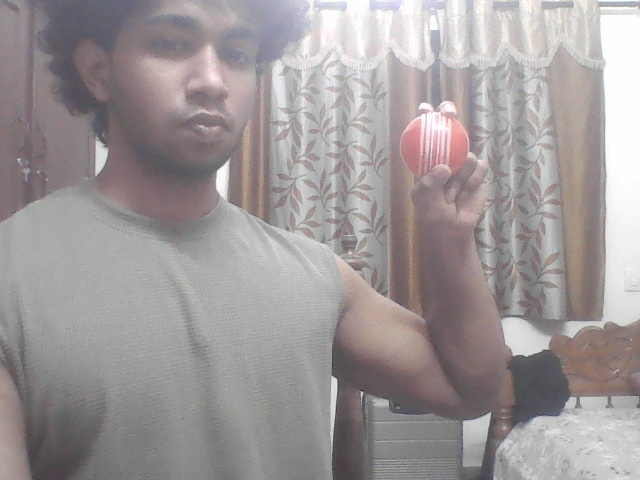cricket_ball: (398, 110, 473, 183)
